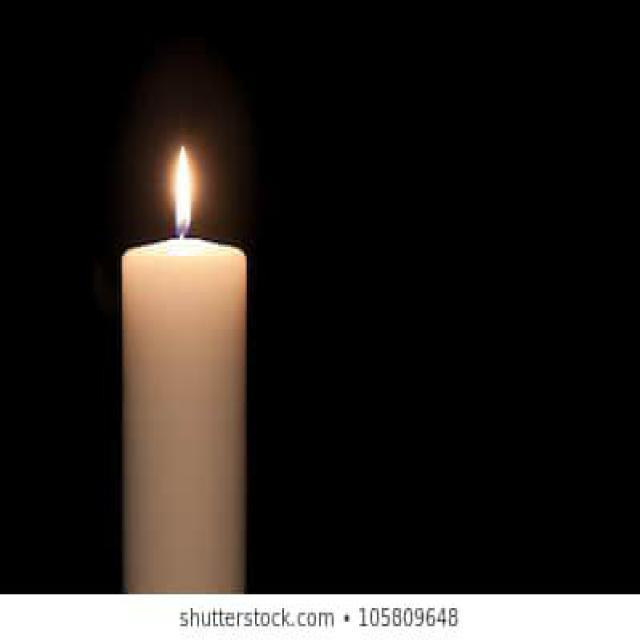Fire: (175, 144, 191, 235)
